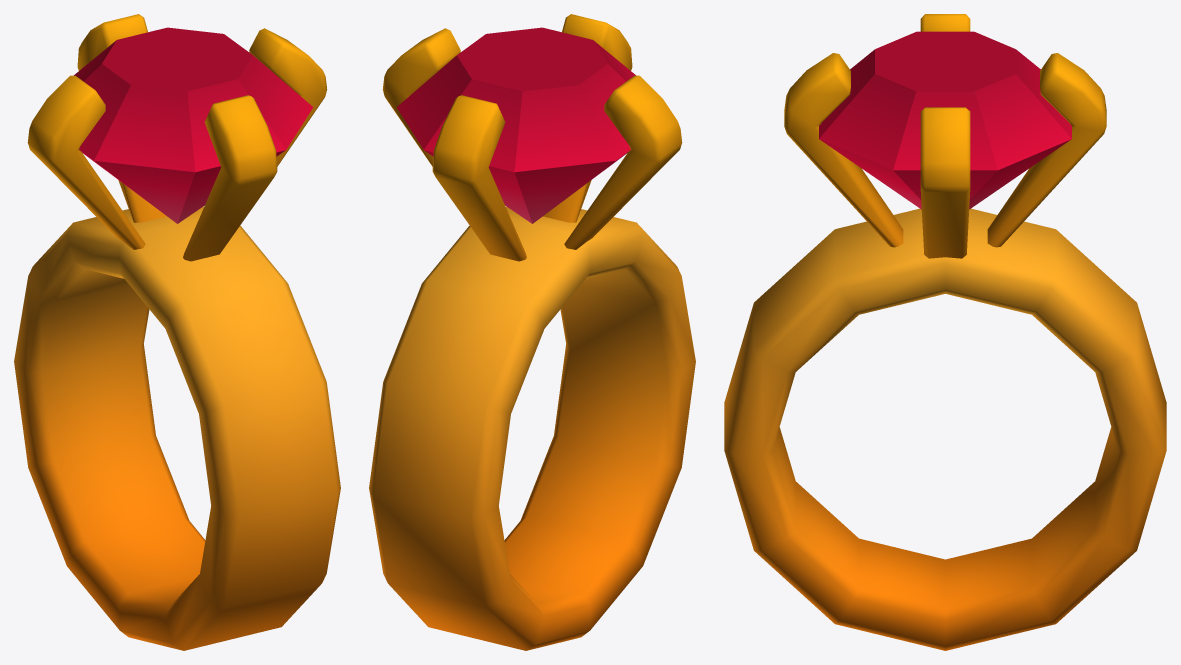
File: Collectable_Diamond_Ring_01.fbx
3 renders of one model, left to right at view 1: azimuth 30°, elevation 25°; view 2: azimuth 150°, elevation 25°; view 3: azimuth 270°, elevation 25°, orthographic.
Visible parts, largest first — view 1: Collectable_Diamond_Ring_01; view 2: Collectable_Diamond_Ring_01; view 3: Collectable_Diamond_Ring_01.
Part boxes in pixels (x1,y1,x2,y2): Collectable_Diamond_Ring_01: (14,14,340,650); Collectable_Diamond_Ring_01: (369,14,695,650); Collectable_Diamond_Ring_01: (724,14,1166,650).
Size of the model in its own units: 28.53 by 55.27 by 39.18.
Materials: 1 (1 with a texture image).
